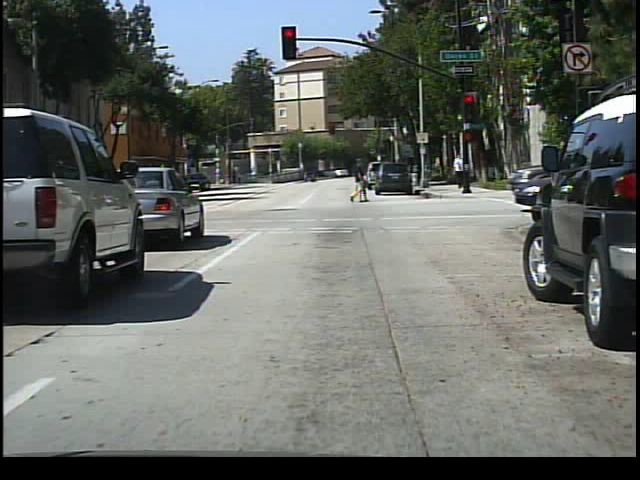person: (349, 157, 374, 206), (451, 150, 471, 192)
